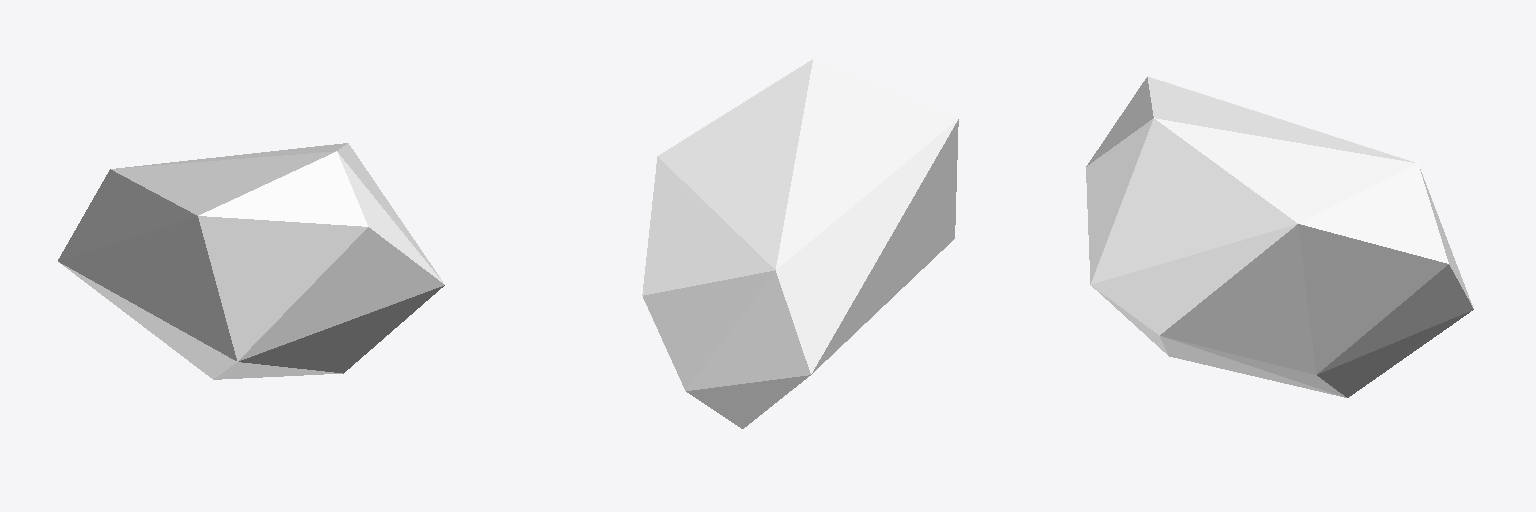
Rendered from oolite_splinter.obj.
The picture shows the model from 3 angles: view 1: azimuth 30°, elevation 25°; view 2: azimuth 150°, elevation 25°; view 3: azimuth 270°, elevation 25°; orthographic projection.
Parts seen in each view (by area): view 1: oolite_splinter.obj; view 2: oolite_splinter.obj; view 3: oolite_splinter.obj.
Part boxes in pixels (left/top/right/bottom): oolite_splinter.obj: left=58, top=143, right=444, bottom=379; oolite_splinter.obj: left=642, top=59, right=958, bottom=428; oolite_splinter.obj: left=1086, top=76, right=1473, bottom=397.
Size of the model in its own units: 10.05 by 11.32 by 13.58.